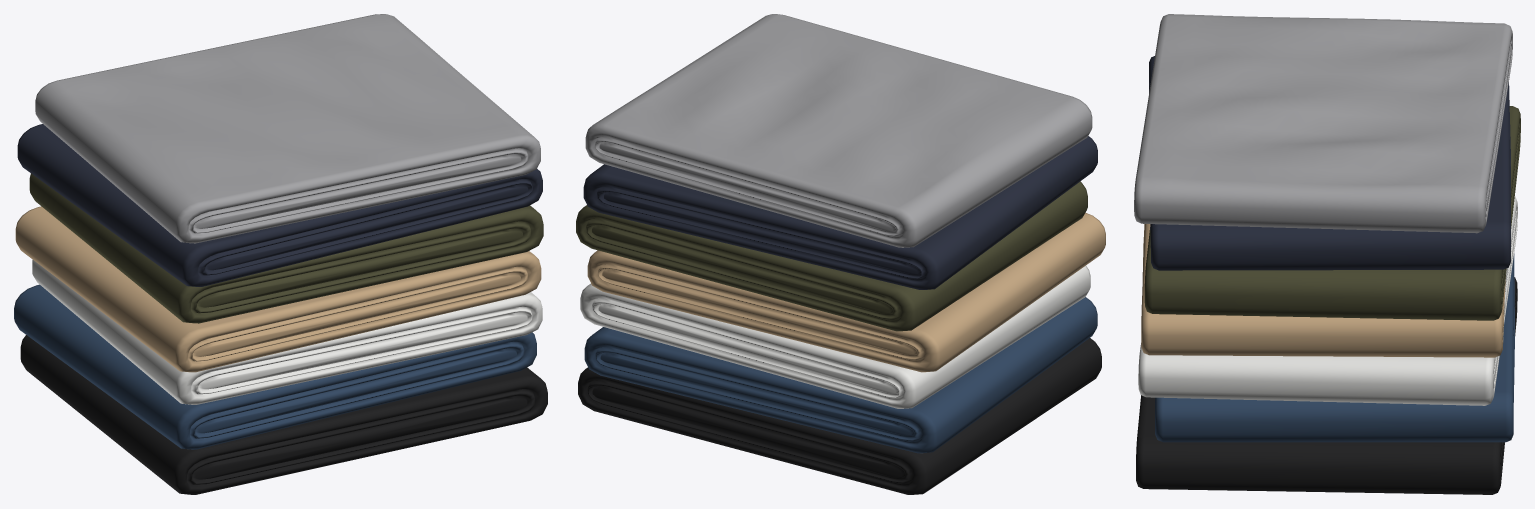
The picture shows the model from 3 angles, left to right: view 1: azimuth 30°, elevation 25°; view 2: azimuth 150°, elevation 25°; view 3: azimuth 270°, elevation 25°; orthographic projection. The views are drawn at different scales.
Visible parts, largest first — view 1: Garment_Grey_6, Garment_Tan_3, Garment_Black_0, Garment_Denim_1, Garment_Navy_5, Garment_Olive_4, Garment_White_2; view 2: Garment_Grey_6, Garment_Denim_1, Garment_Navy_5, Garment_Tan_3, Garment_Black_0, Garment_Olive_4, Garment_White_2; view 3: Garment_Grey_6, Garment_Black_0, Garment_Olive_4, Garment_Navy_5, Garment_White_2, Garment_Denim_1, Garment_Tan_3.
Boxes of the visible parts, bbox=[...] form: Garment_Grey_6: bbox=[35, 14, 540, 243]; Garment_Tan_3: bbox=[15, 206, 541, 372]; Garment_Black_0: bbox=[20, 335, 547, 494]; Garment_Denim_1: bbox=[14, 284, 536, 449]; Garment_Navy_5: bbox=[17, 124, 542, 286]; Garment_Olive_4: bbox=[29, 173, 543, 323]; Garment_White_2: bbox=[32, 259, 542, 404]; Garment_Grey_6: bbox=[585, 14, 1092, 247]; Garment_Denim_1: bbox=[584, 297, 1097, 453]; Garment_Navy_5: bbox=[583, 136, 1097, 289]; Garment_Tan_3: bbox=[587, 212, 1105, 372]; Garment_Black_0: bbox=[578, 338, 1101, 494]; Garment_Olive_4: bbox=[576, 181, 1087, 331]; Garment_White_2: bbox=[580, 265, 1090, 408]; Garment_Grey_6: bbox=[1134, 14, 1512, 233]; Garment_Black_0: bbox=[1136, 277, 1517, 494]; Garment_Olive_4: bbox=[1144, 106, 1520, 320]; Garment_Navy_5: bbox=[1149, 56, 1510, 270]; Garment_White_2: bbox=[1138, 196, 1517, 405]; Garment_Denim_1: bbox=[1155, 254, 1514, 442]; Garment_Tan_3: bbox=[1141, 224, 1505, 357].
Bounding box in the file's own units: 0.4896 × 0.3612 × 0.4087.
